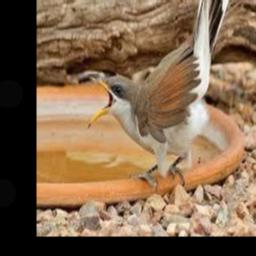Cuckoo: (87, 0, 238, 186)
